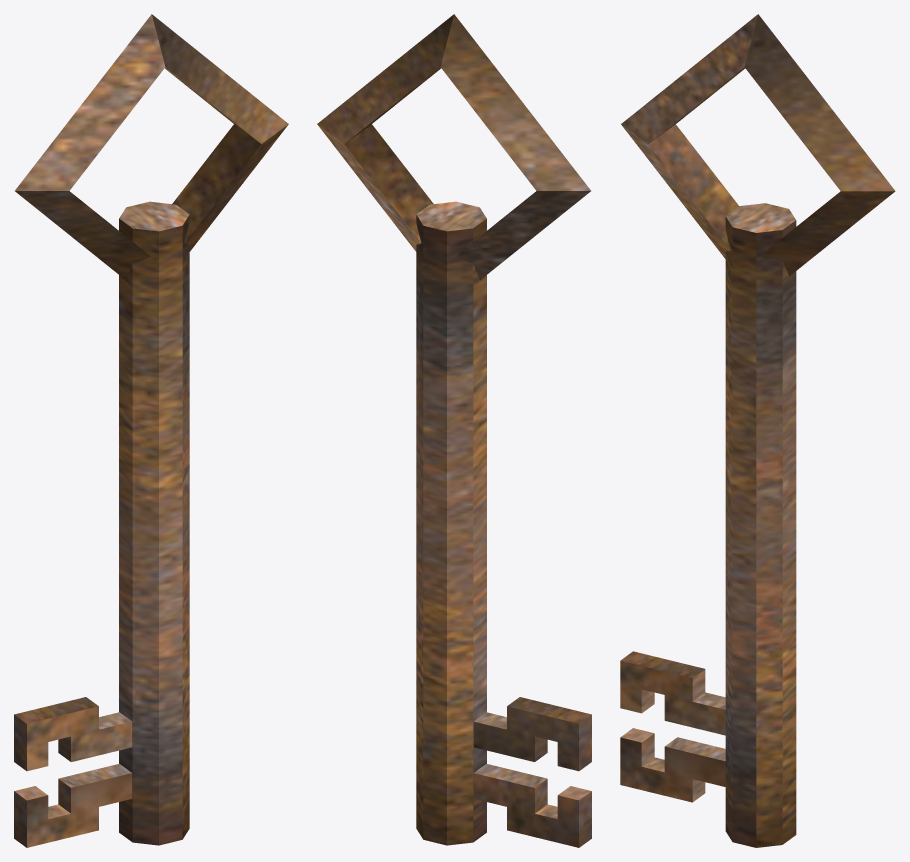
The model's file is Llave (2).fbx.
The picture shows the model from 3 angles, left to right: view 1: azimuth 30°, elevation 25°; view 2: azimuth 150°, elevation 25°; view 3: azimuth 330°, elevation 25°; orthographic projection.
Visible parts, largest first — view 1: Llave; view 2: Llave; view 3: Llave.
Part boxes in pixels (box(x1,y1,x2,y2)): Llave: box(14, 14, 288, 847); Llave: box(317, 14, 591, 847); Llave: box(620, 14, 895, 847).
Bounding box in the file's own units: 100 × 285 × 20.76.
1 material, 1 textured.
